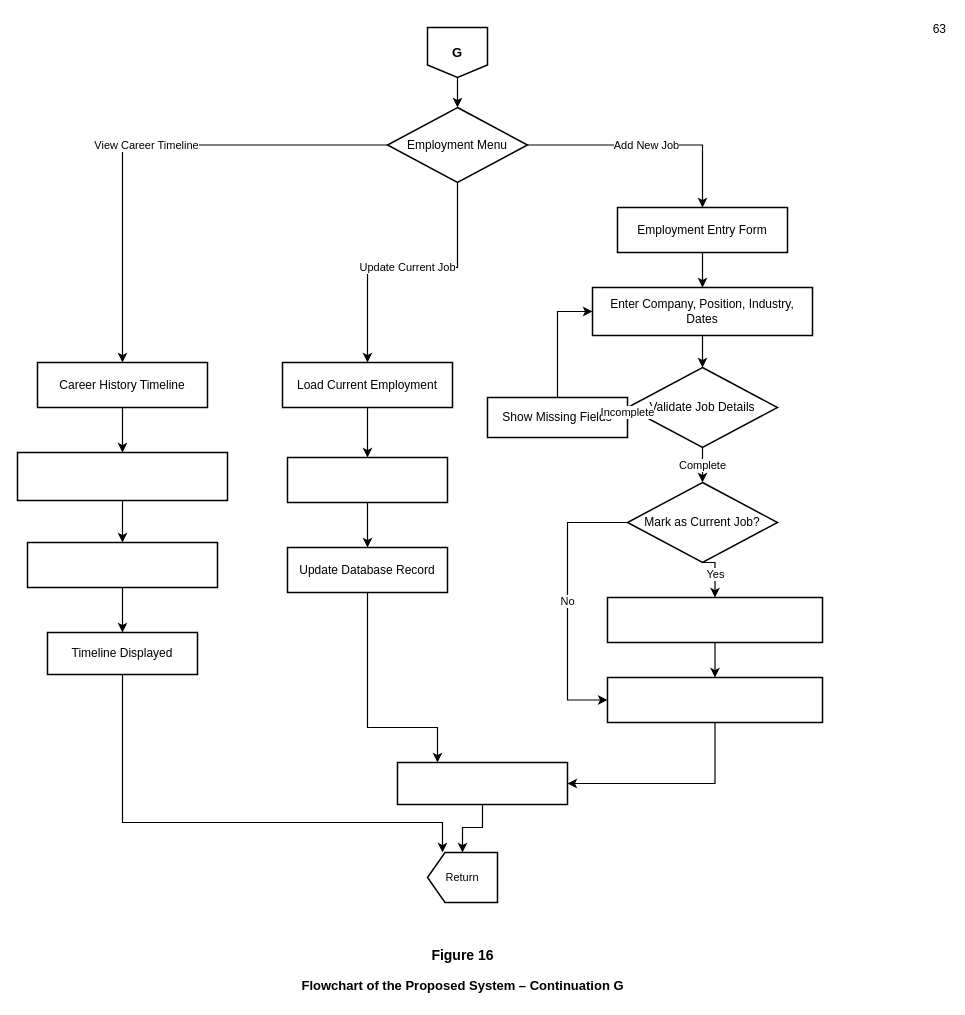
Image size: 965x1015. Some labels were removed from this diagram. Each missing label, with the centre of its shape:
Display Chronological Timeline: (122,564)
Edit Employment Details: (367,479)
Retrieve All Employment Records from Database: (122,476)
Save New Employment Record to Database: (714,699)
Show Success Message: (482,783)
Unset Previous Current Job in Database: (714,619)
